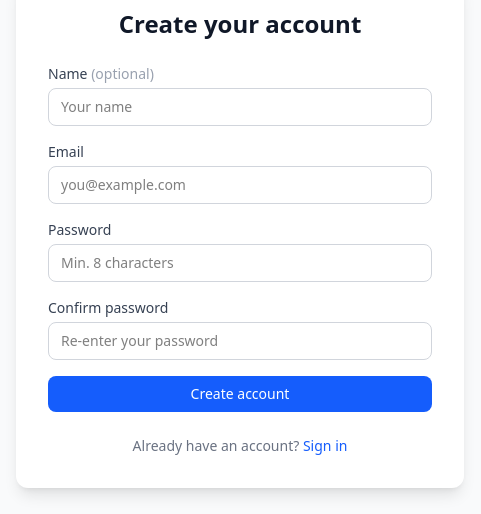
Scenario: Register › shows loading state during submission
This screenshot has width=481, height=514.
In the field labelled "Email": (240, 185) [48,166,432,204], type "test@example.com"
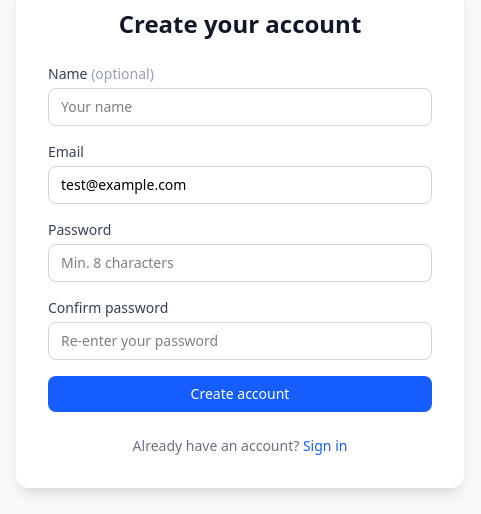
In the password field labelled "Password": (240, 263) [48,244,432,282], type "password123"
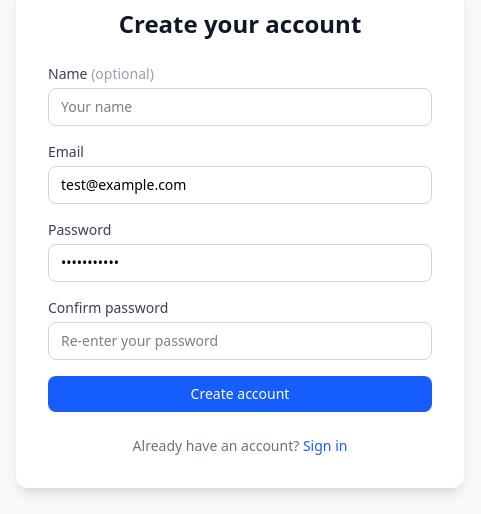
In the password field labelled "Confirm password": (240, 341) [48,322,432,360], type "password123"
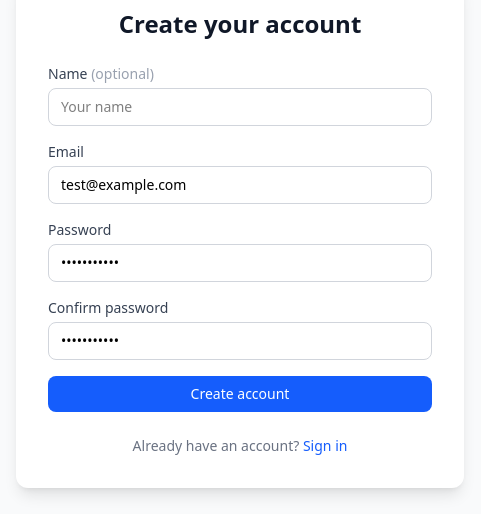
Click the button "Create account": click(240, 394) [48,376,432,412]
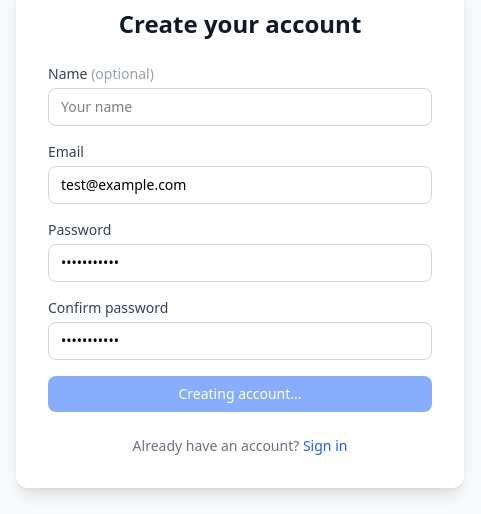
Now the button "Creating account..." is shown, box [48,376,432,412]
